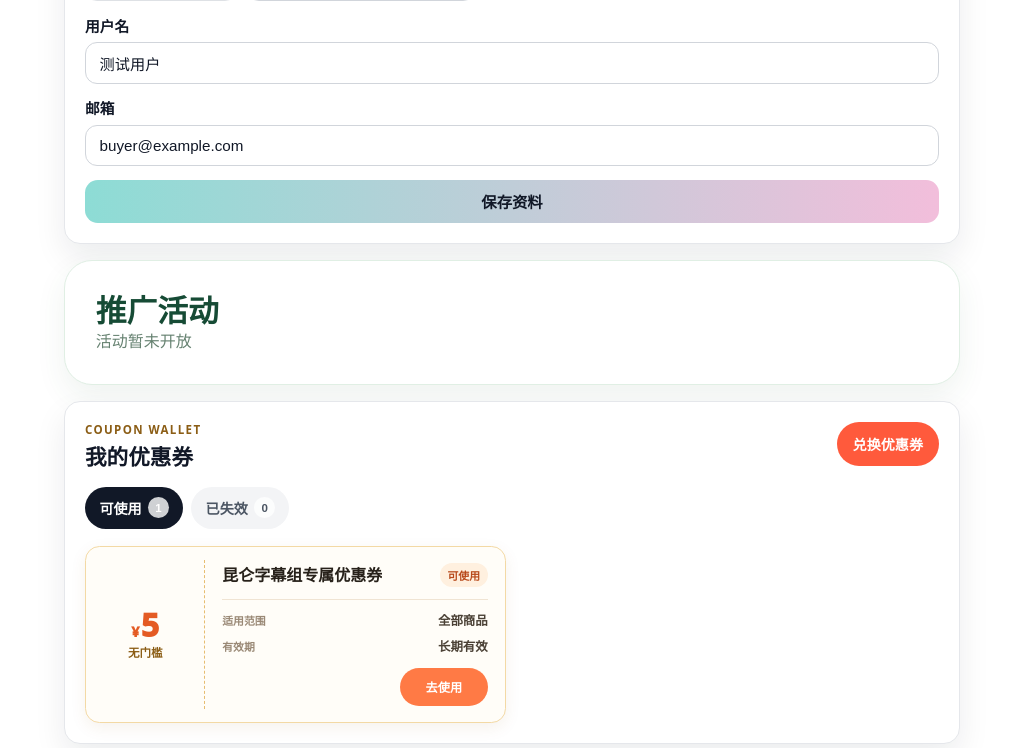
Test: ProfilePage coupon module picker › hides a module the user already owns from the coupon use picker
(page scrolled)
Expected: the text "昆仑字幕组专属优惠券" is shown, [222, 565, 382, 586]
Click the button "去使用" at (444, 687), box [400, 668, 488, 706]
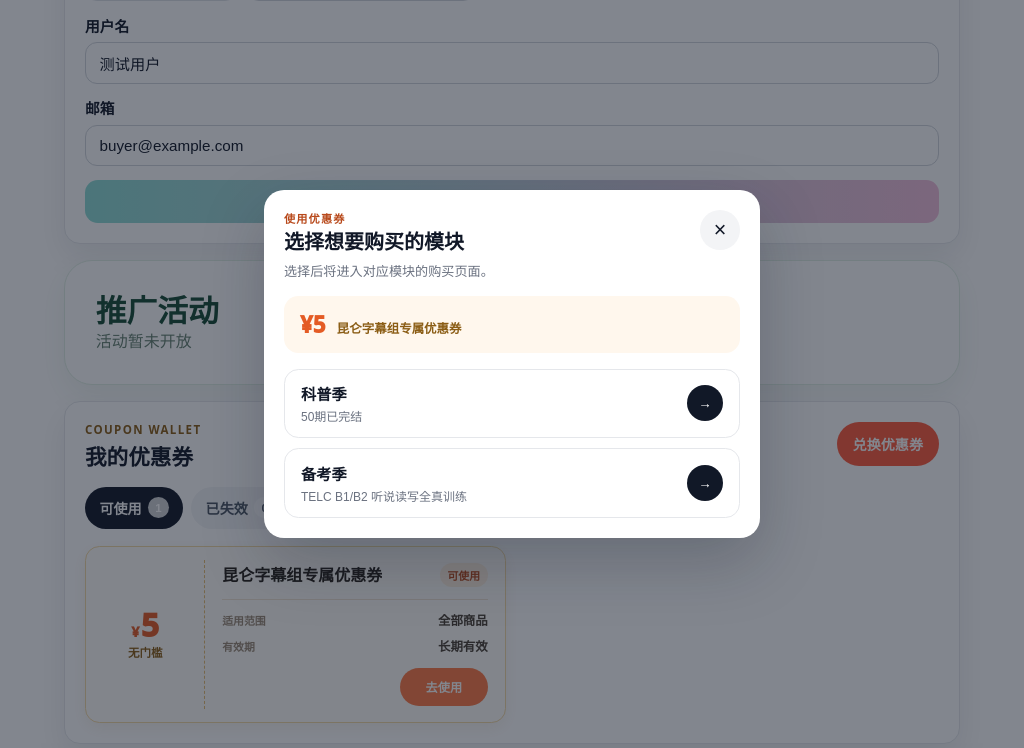
Result: the button "科普季 50期已完结 →" is shown at [284, 368, 740, 438]
Result: the button "备考季 TELC B1/B2 听说读写全真训练 →" is shown at [284, 448, 740, 518]
